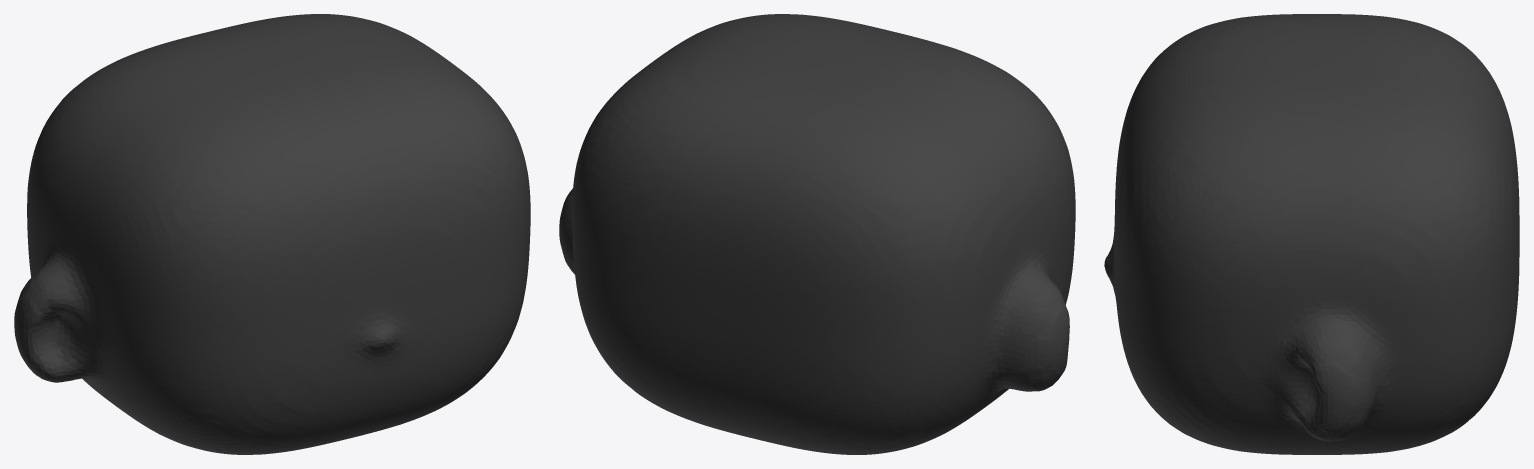
File: chibi_head.glb
3 views of the same model, side by side, from view 1: azimuth 30°, elevation 25°; view 2: azimuth 150°, elevation 25°; view 3: azimuth 270°, elevation 25° (orthographic).
Visible parts, largest first — view 1: world; view 2: world; view 3: world.
Boxes of the visible parts, x1,y1,x2,y2 form: world: (14,14,530,454); world: (559,14,1075,454); world: (1104,14,1519,454).
Size of the model in its own units: 0.6488 by 0.4279 by 0.4634.
1 material, 1 textured.
